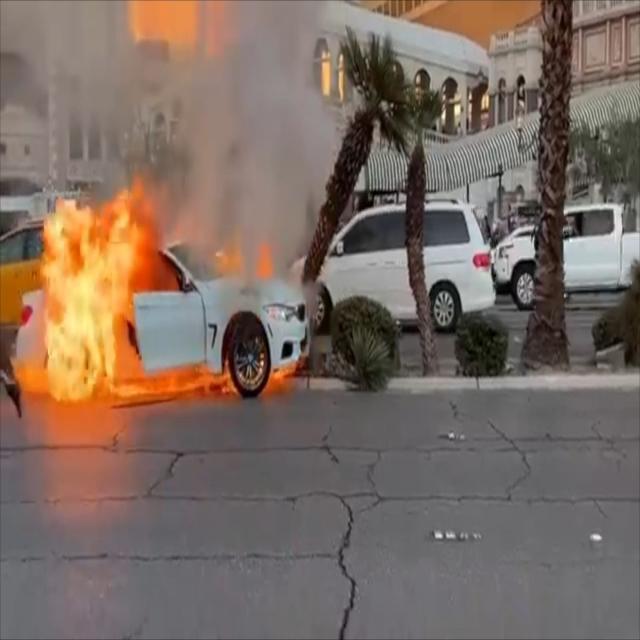fire: (35, 186, 266, 398)
